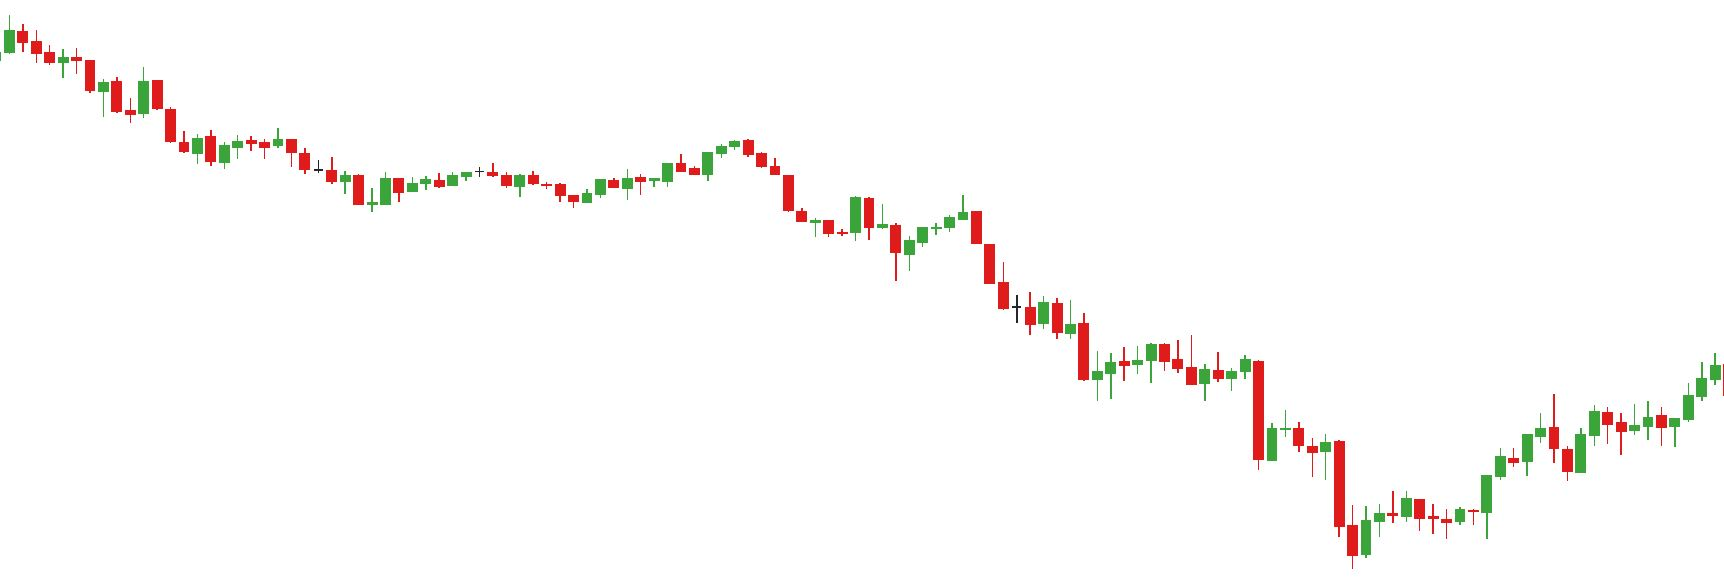sell: (873, 195, 986, 254)
